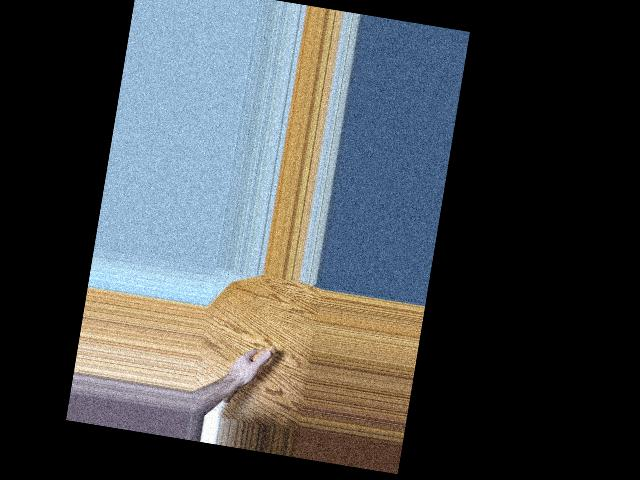sweet_potato: (223, 338, 278, 410)
